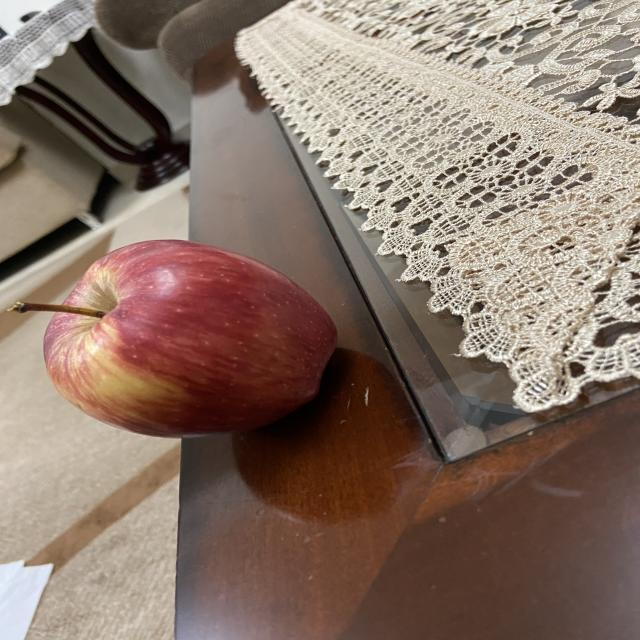apple: (8, 234, 346, 442)
